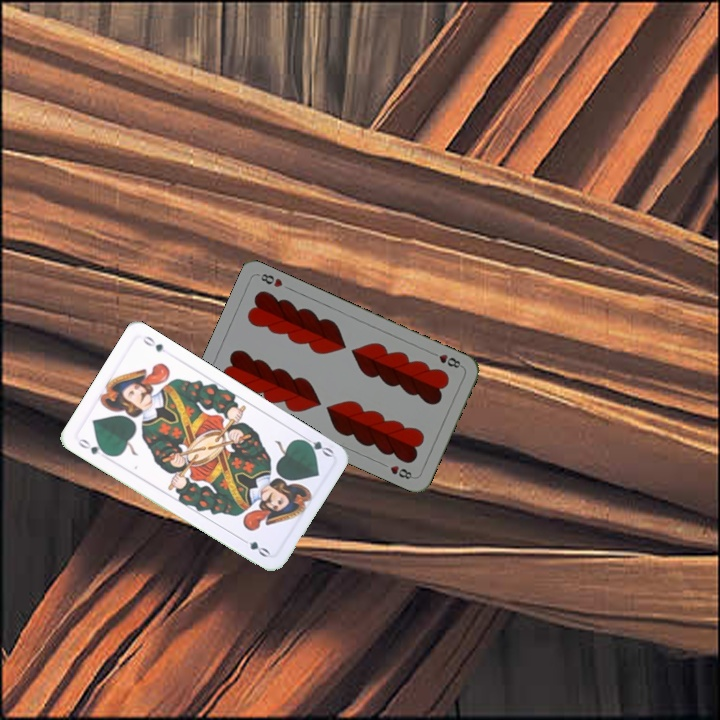GO: (296, 431, 336, 460), (74, 435, 112, 458)
H8: (427, 348, 465, 371)
